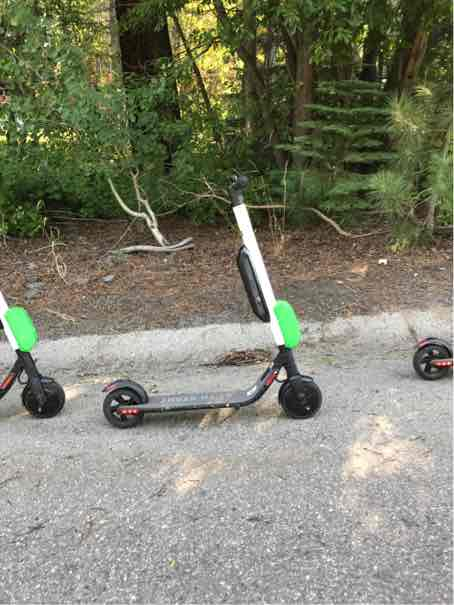scooter: (97, 160, 323, 435)
